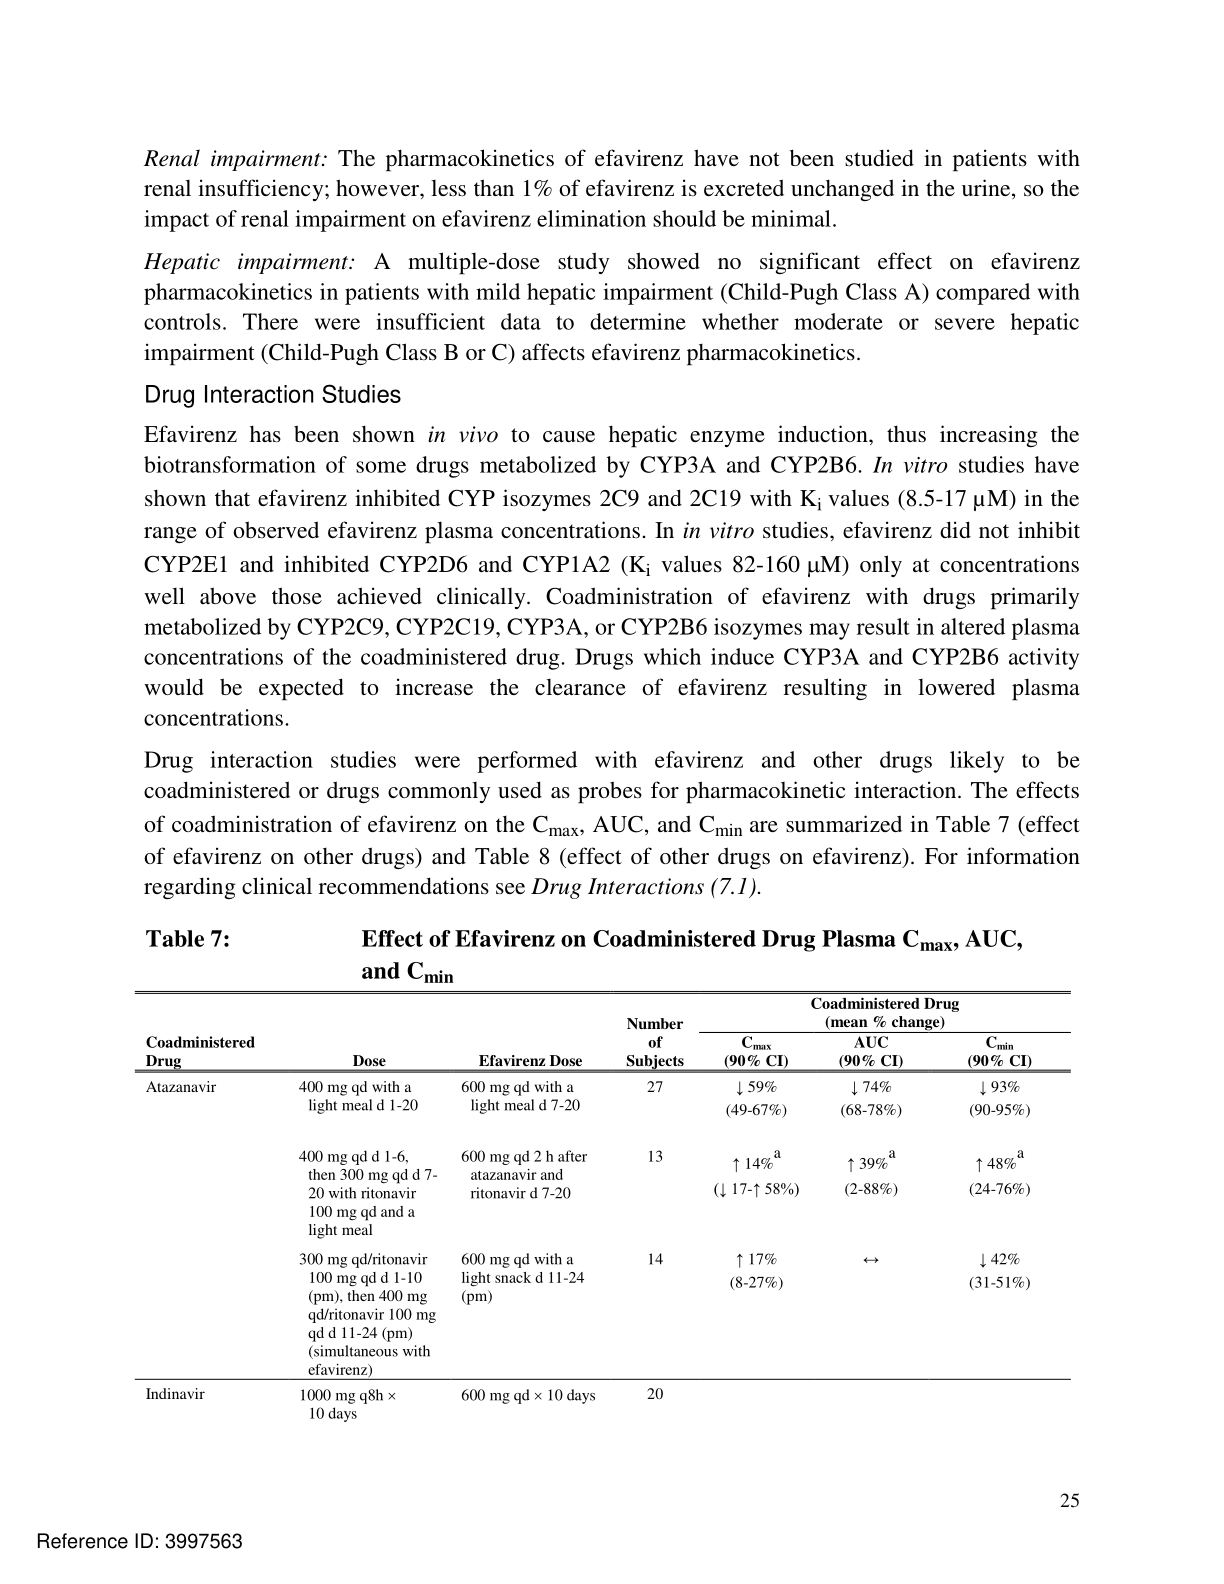partial_lined_merged_cells: (132, 989, 1072, 1382)
